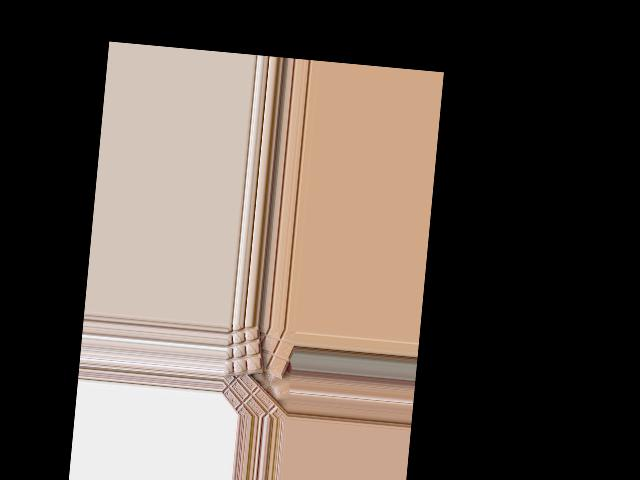chocolate: (248, 325, 292, 378)
